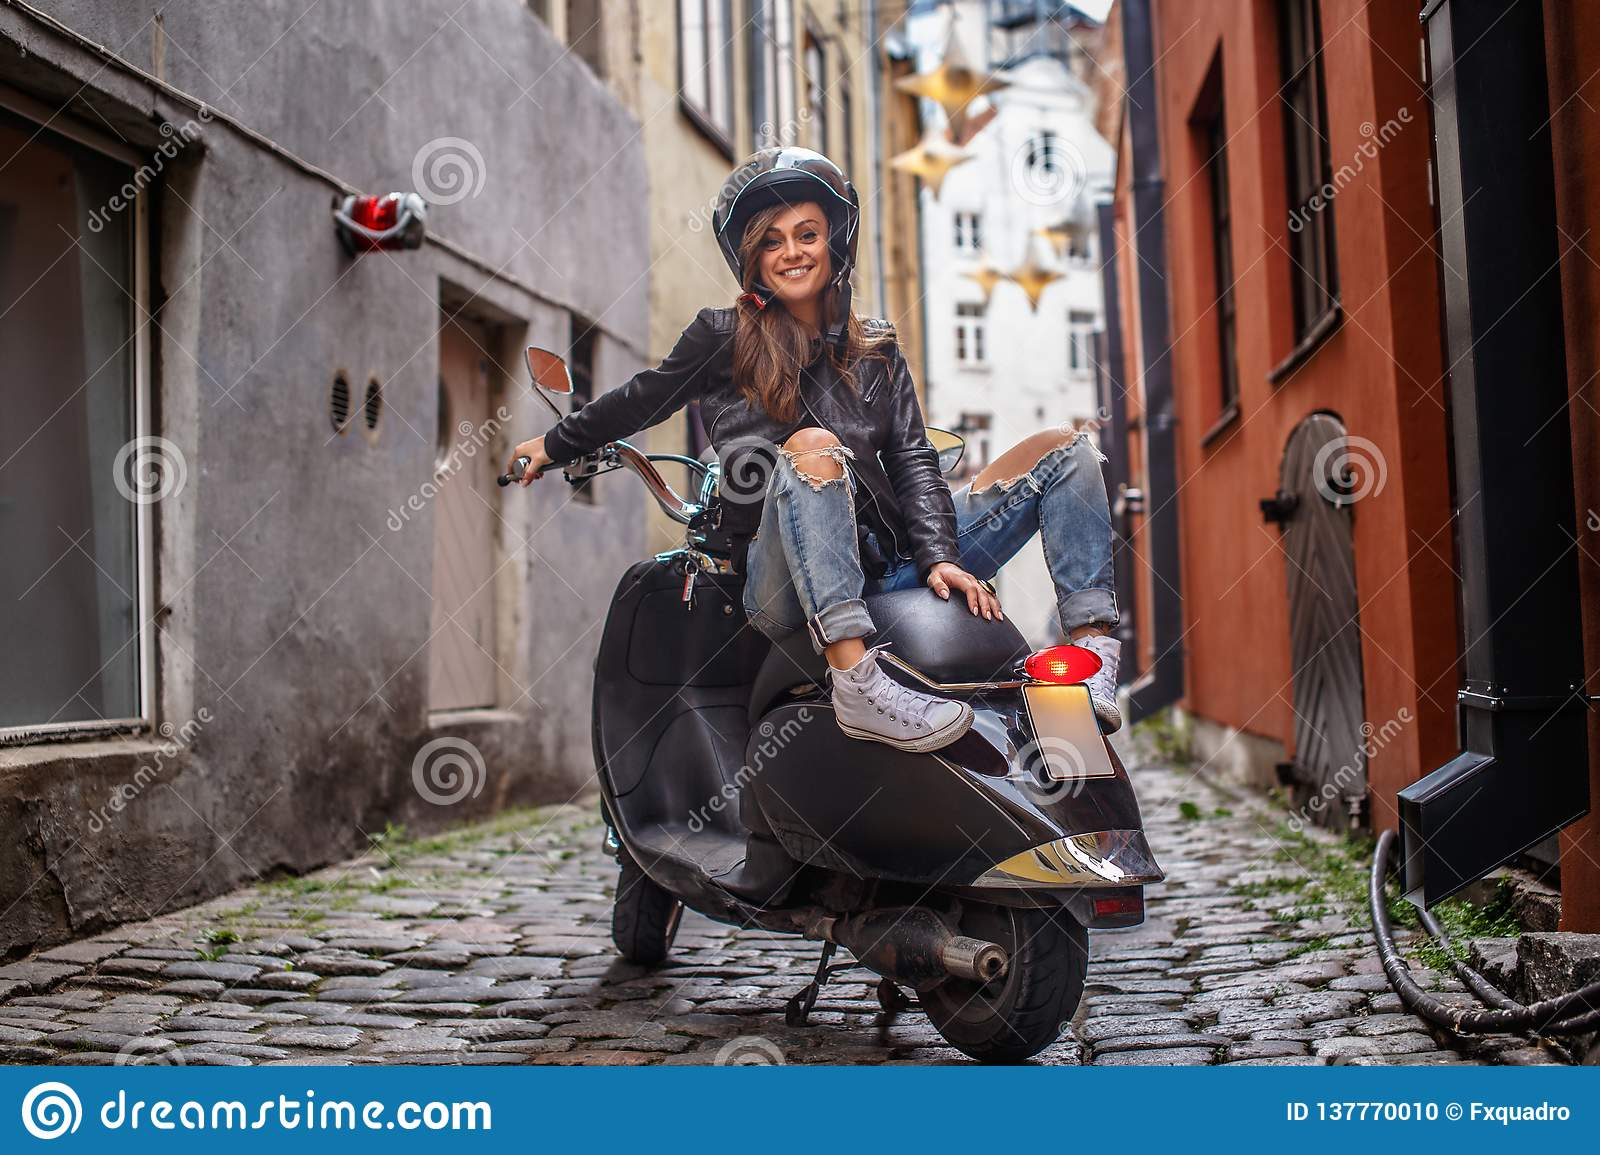helmet: (717, 144, 863, 284)
